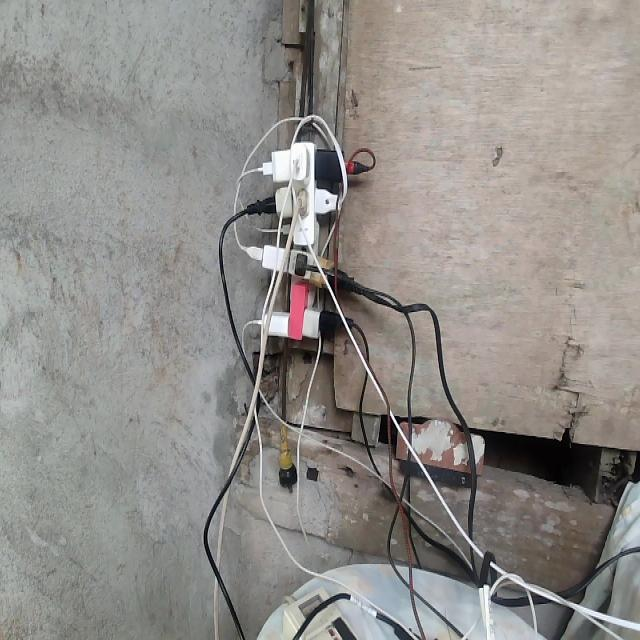-: (204, 104, 405, 408)
